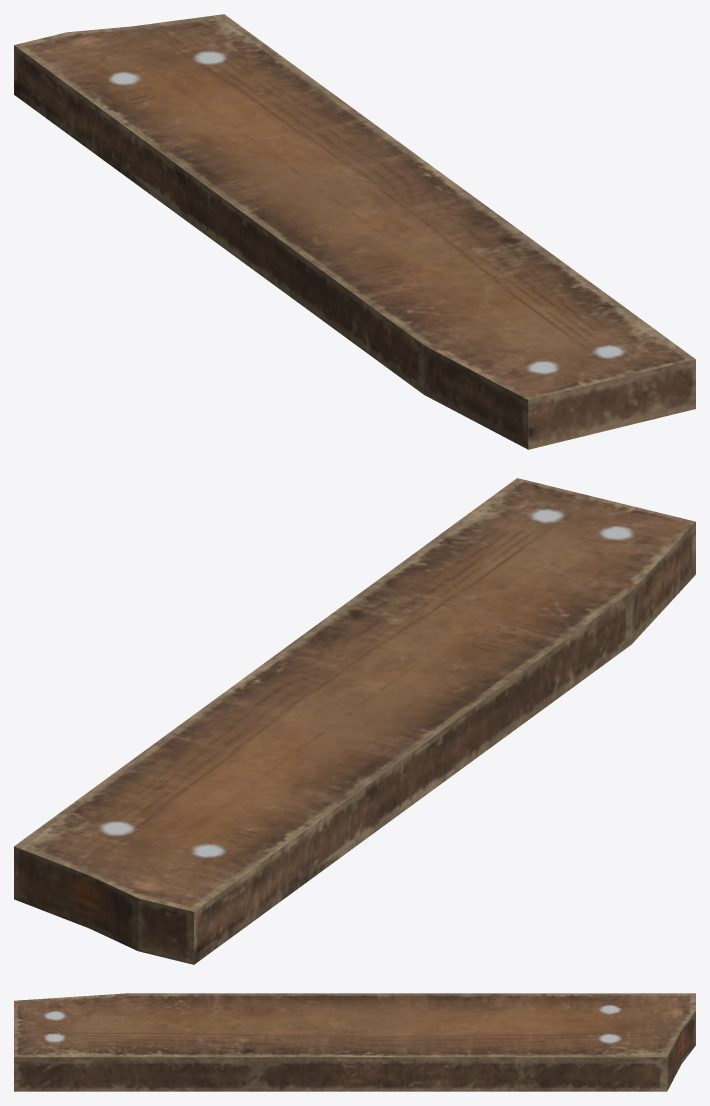
Rendered from Plank2.fbx.
3 views of the same model, one above another, from view 1: azimuth 30°, elevation 25°; view 2: azimuth 150°, elevation 25°; view 3: azimuth 270°, elevation 25° (orthographic). The views are drawn at different scales.
Visible parts, largest first — view 1: Wood Planks; view 2: Wood Planks; view 3: Wood Planks.
Part boxes in pixels (x1,y1,x2,y2): Wood Planks: [14, 14, 695, 449]; Wood Planks: [14, 478, 695, 964]; Wood Planks: [14, 993, 695, 1091].
Bounding box in the file's own units: 15.24 × 3.81 × 68.58.
